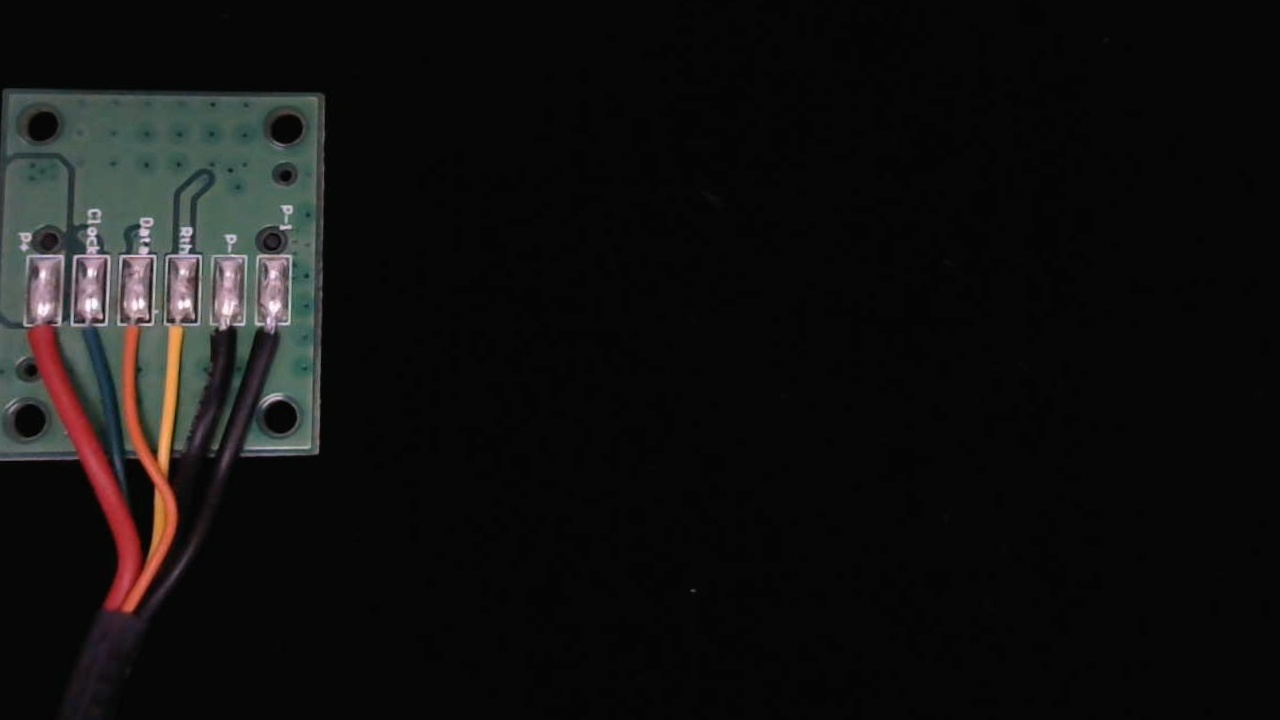Black: (205, 308, 243, 378)
Black1: (252, 309, 292, 383)
Green: (64, 304, 108, 382)
Orange: (112, 306, 152, 386)
Red: (20, 304, 64, 382)
Yellow: (158, 306, 201, 388)
